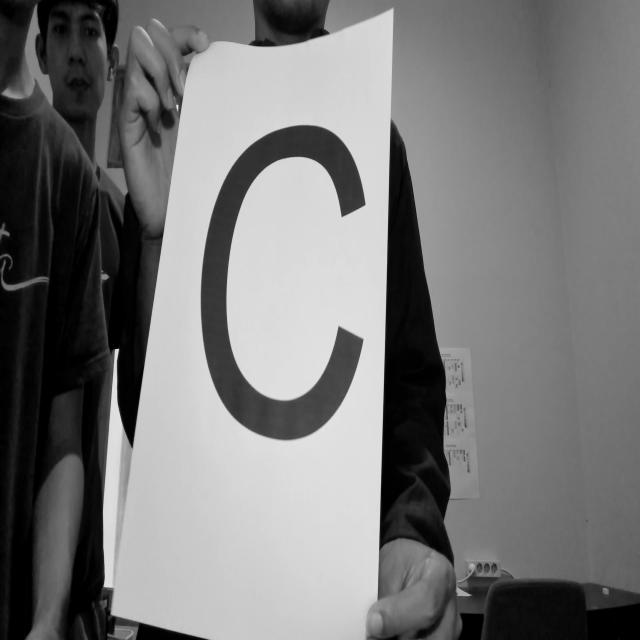c: (194, 98, 372, 486)
